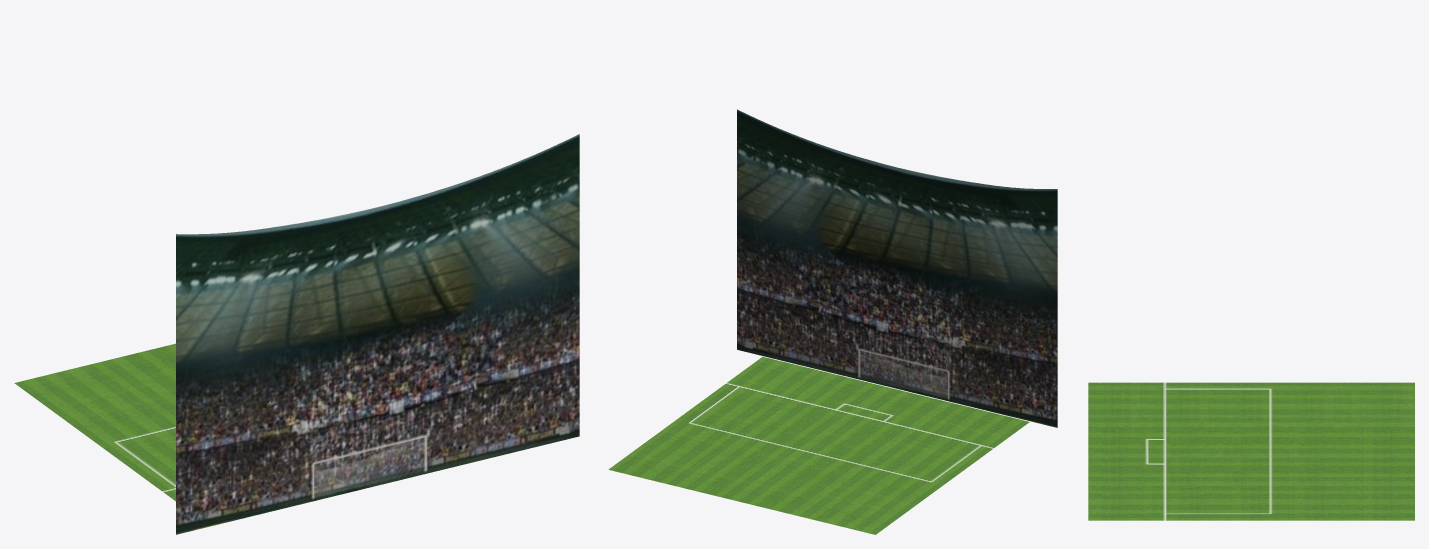
File: grass_stadium_2.glb
3 views of the same model, side by side, from view 1: azimuth 30°, elevation 25°; view 2: azimuth 150°, elevation 25°; view 3: azimuth 270°, elevation 25° (orthographic). The views are drawn at different scales.
Visible parts, largest first — view 1: Plane.001, Plane; view 2: Plane.001, Plane; view 3: Plane.
Part boxes in pixels (box(x1,y1,x2,y2)): Plane.001: box(176, 134, 579, 534); Plane: box(14, 343, 175, 501); Plane.001: box(737, 109, 1057, 427); Plane: box(608, 356, 1029, 534); Plane: box(1088, 382, 1414, 520).
Size of the model in its own units: 6 by 6 by 5.03.
Materials: 2 (2 with a texture image).
